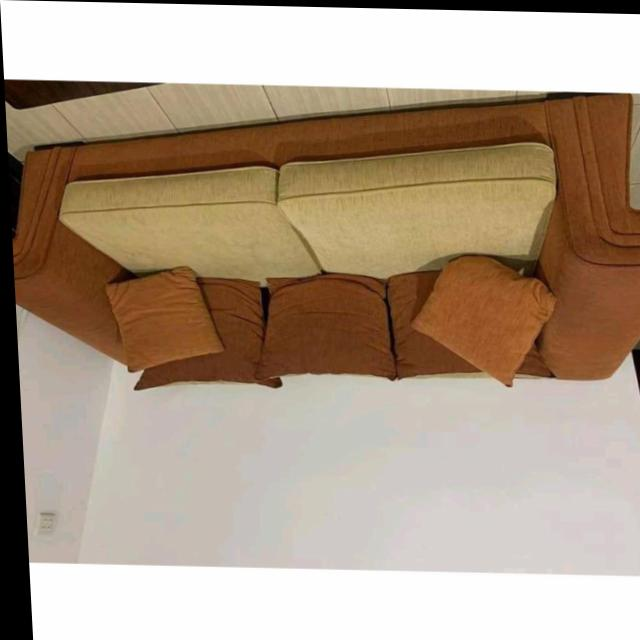Sofa: (3, 82, 640, 401)
